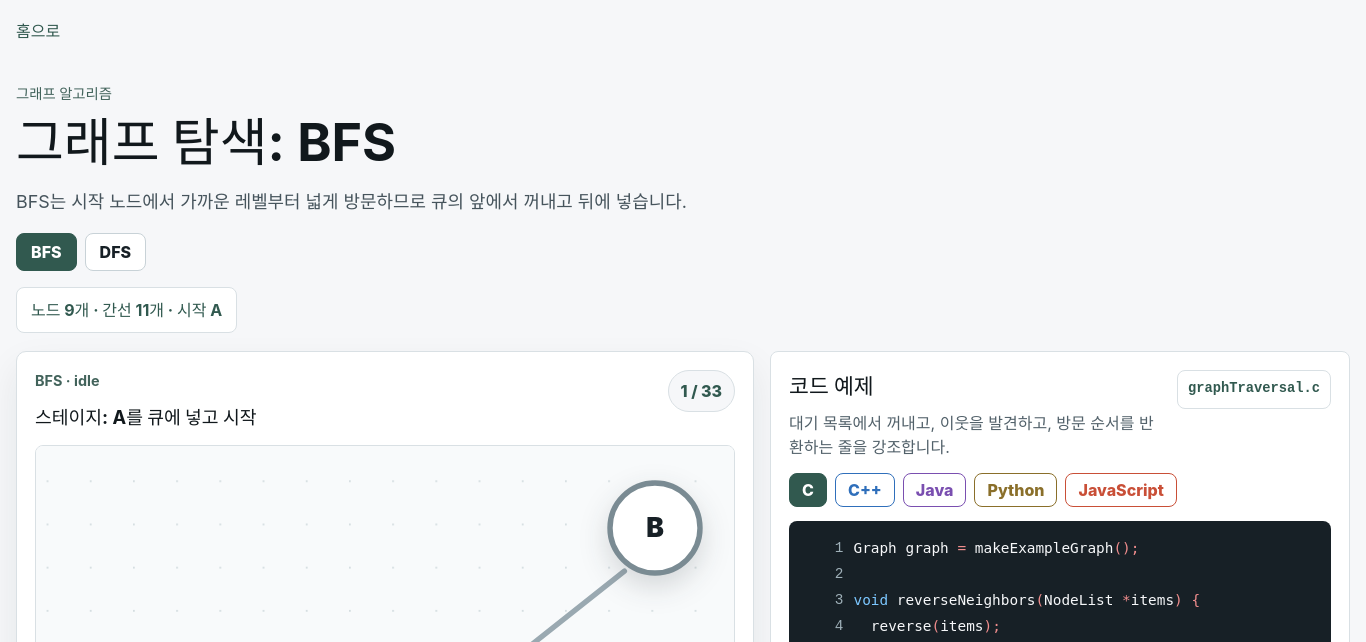
Test case: GraphTraversalPage › switches to DFS and shows stack-based completion order
Click the tab "DFS" at coordinates (115, 252), box x1=85 y1=234 x2=146 y2=272
(page scrolled)
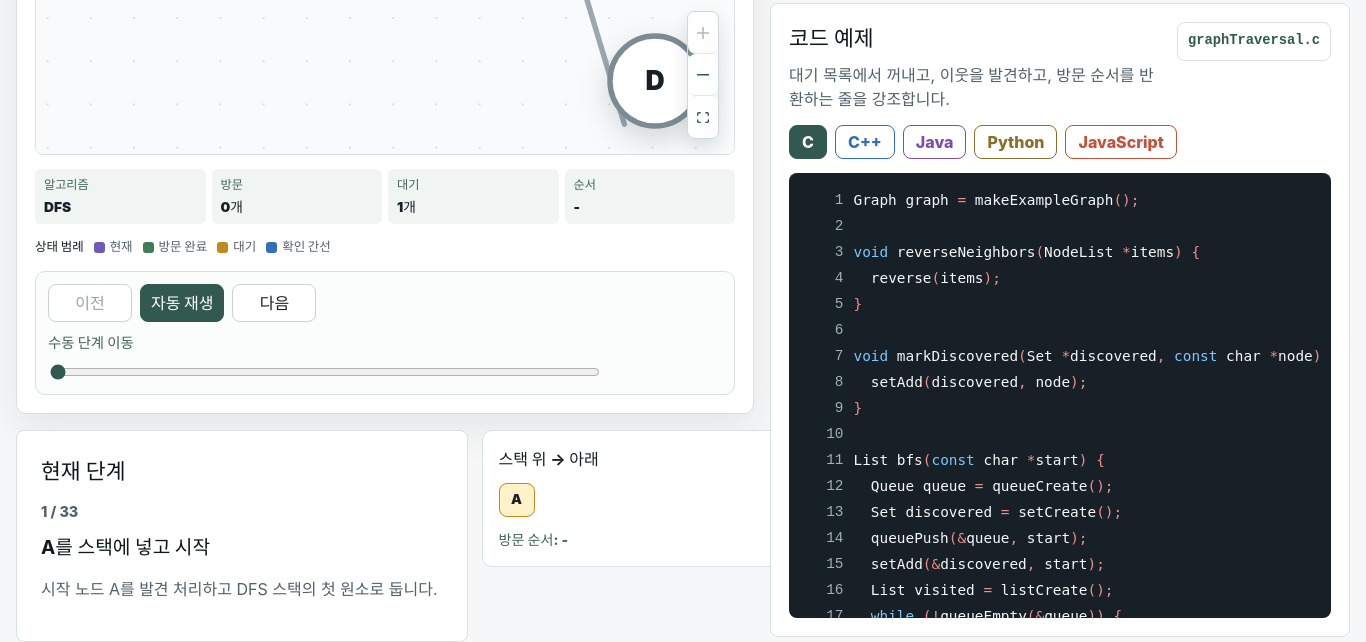
Set the slider named "그래프 탐색 단계 슬라이더" to "32" at coordinates (592, 372), box x1=50 y1=364 x2=600 y2=380
(page scrolled)
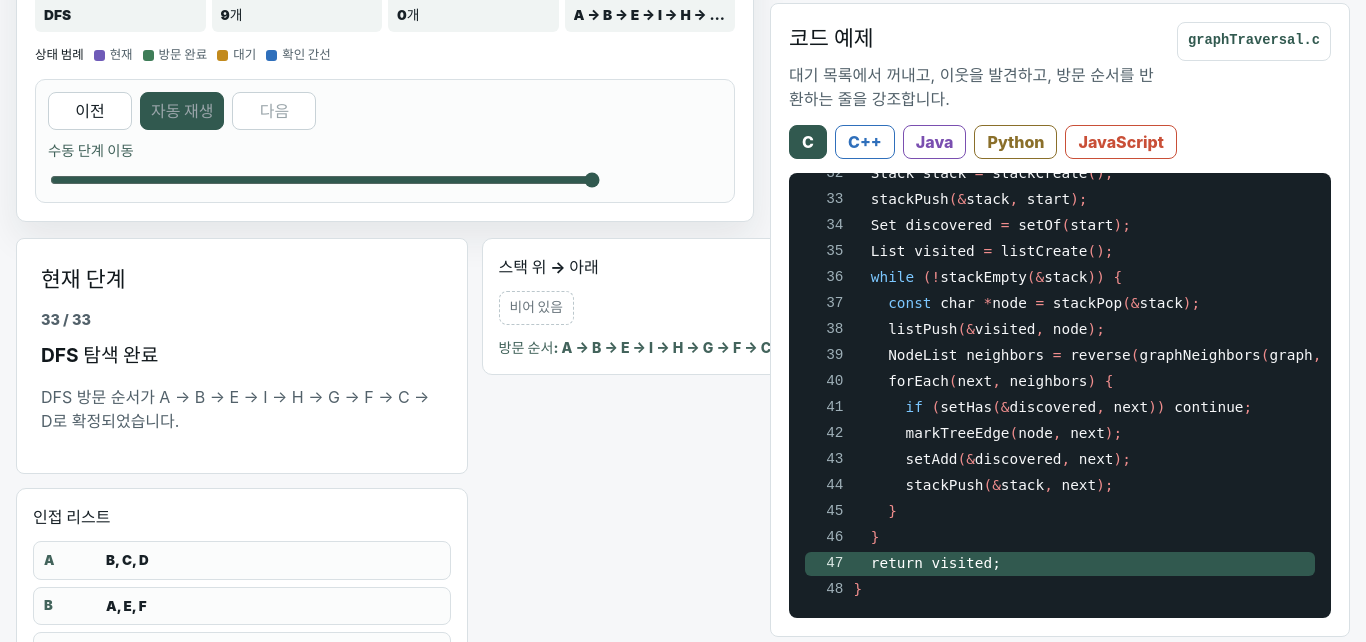
Check: the heading "DFS 탐색 완료" is shown, box x1=41 y1=343 x2=158 y2=367
Check: the text "방문 순서: A → B → E → I → H → G → F → C → D" is shown, box x1=499 y1=339 x2=801 y2=356
Check: the list item with aria-label "현재 코드 47: return visited;" is shown, box x1=805 y1=551 x2=1315 y2=575
